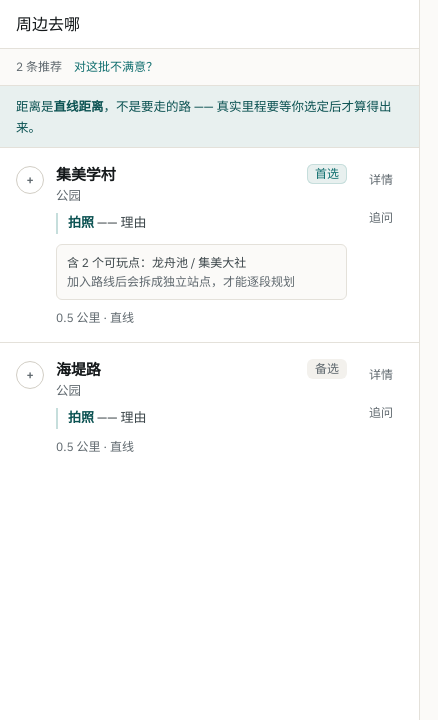
Test case: 结果页 · 下一步引导 › 混用方式的路线，行程页顶部两种方式都说
Click the button named "选择 集美学村" at (30, 180), box x1=16 y1=166 x2=44 y2=194
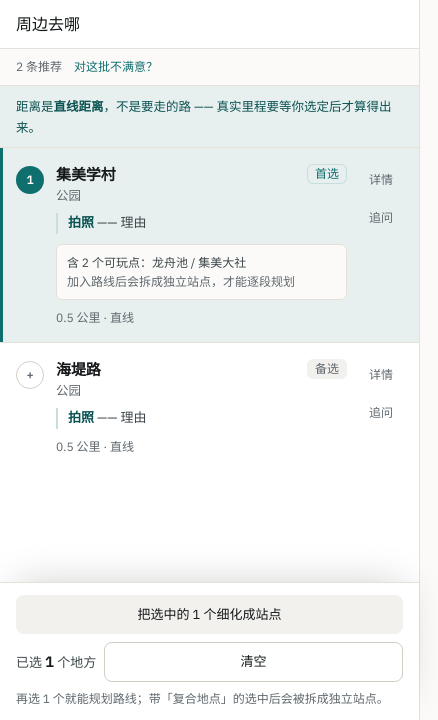
Click the button named "选择 海堤路" at (30, 375), box x1=16 y1=361 x2=44 y2=389
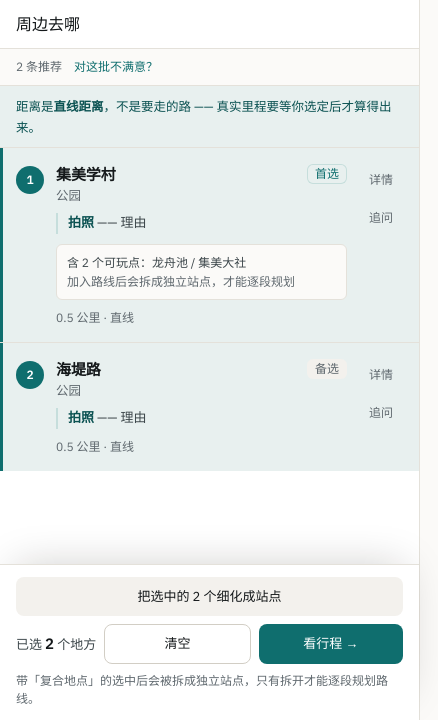
Click the button "看行程 →" at (331, 644), box x1=259 y1=624 x2=403 y2=664
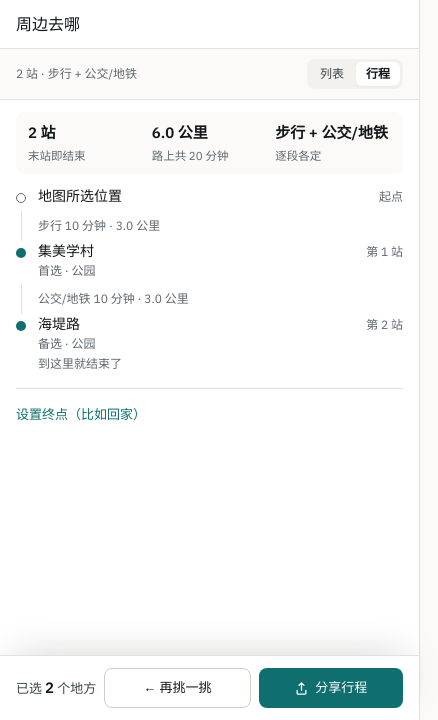
Result: the text "2 站 · 步行 + 公交/地铁" is shown at x1=16 y1=66 x2=137 y2=82
